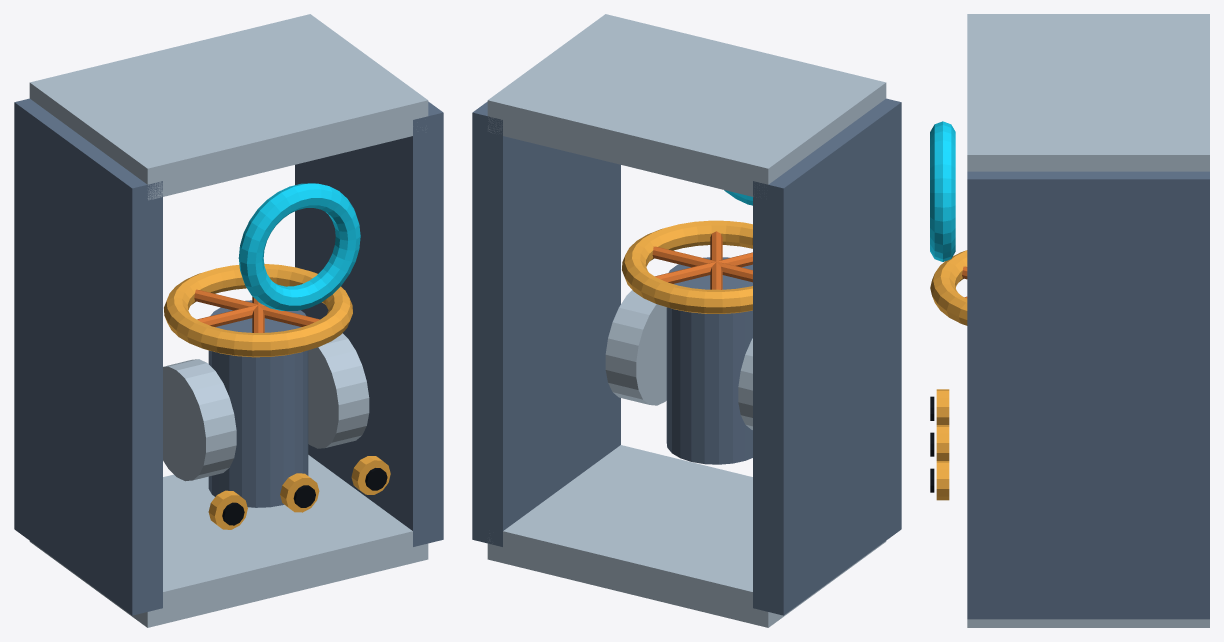
Rendered from 57_L90_XenonFlowControllerB.fbx.
3 views of the same model, side by side, from view 1: azimuth 30°, elevation 25°; view 2: azimuth 150°, elevation 25°; view 3: azimuth 270°, elevation 25° (orthographic). The views are drawn at different scales.
Visible parts, largest first — view 1: L90_XenonFlowControllerB, L90_XenonFlowControllerB_Part_0002, L90_XenonFlowControllerB_Part_0003, L90_XenonFlowControllerB_Part_0007, L90_XenonFlowControllerB_Part_0005, L90_XenonFlowControllerB_Part_0009; view 2: L90_XenonFlowControllerB, L90_XenonFlowControllerB_Part_0002, L90_XenonFlowControllerB_Part_0003; view 3: L90_XenonFlowControllerB, L90_XenonFlowControllerB_Part_0002, L90_XenonFlowControllerB_Part_0009, L90_XenonFlowControllerB_Part_0005, L90_XenonFlowControllerB_Part_0007.
Boxes of the visible parts, box(x1,y1,x2,y2) form: L90_XenonFlowControllerB: box(14, 14, 443, 627); L90_XenonFlowControllerB_Part_0002: box(164, 264, 352, 357); L90_XenonFlowControllerB_Part_0003: box(194, 289, 319, 332); L90_XenonFlowControllerB_Part_0007: box(280, 473, 319, 512); L90_XenonFlowControllerB_Part_0005: box(208, 490, 247, 529); L90_XenonFlowControllerB_Part_0009: box(351, 456, 390, 494); L90_XenonFlowControllerB: box(472, 14, 901, 627); L90_XenonFlowControllerB_Part_0002: box(622, 220, 752, 313); L90_XenonFlowControllerB_Part_0003: box(652, 231, 752, 289); L90_XenonFlowControllerB: box(930, 14, 1209, 627); L90_XenonFlowControllerB_Part_0002: box(930, 250, 967, 325); L90_XenonFlowControllerB_Part_0009: box(936, 461, 949, 500); L90_XenonFlowControllerB_Part_0005: box(936, 389, 949, 424); L90_XenonFlowControllerB_Part_0007: box(936, 425, 949, 460).
Bounding box in the file's own units: 122 × 172 × 92.23.
